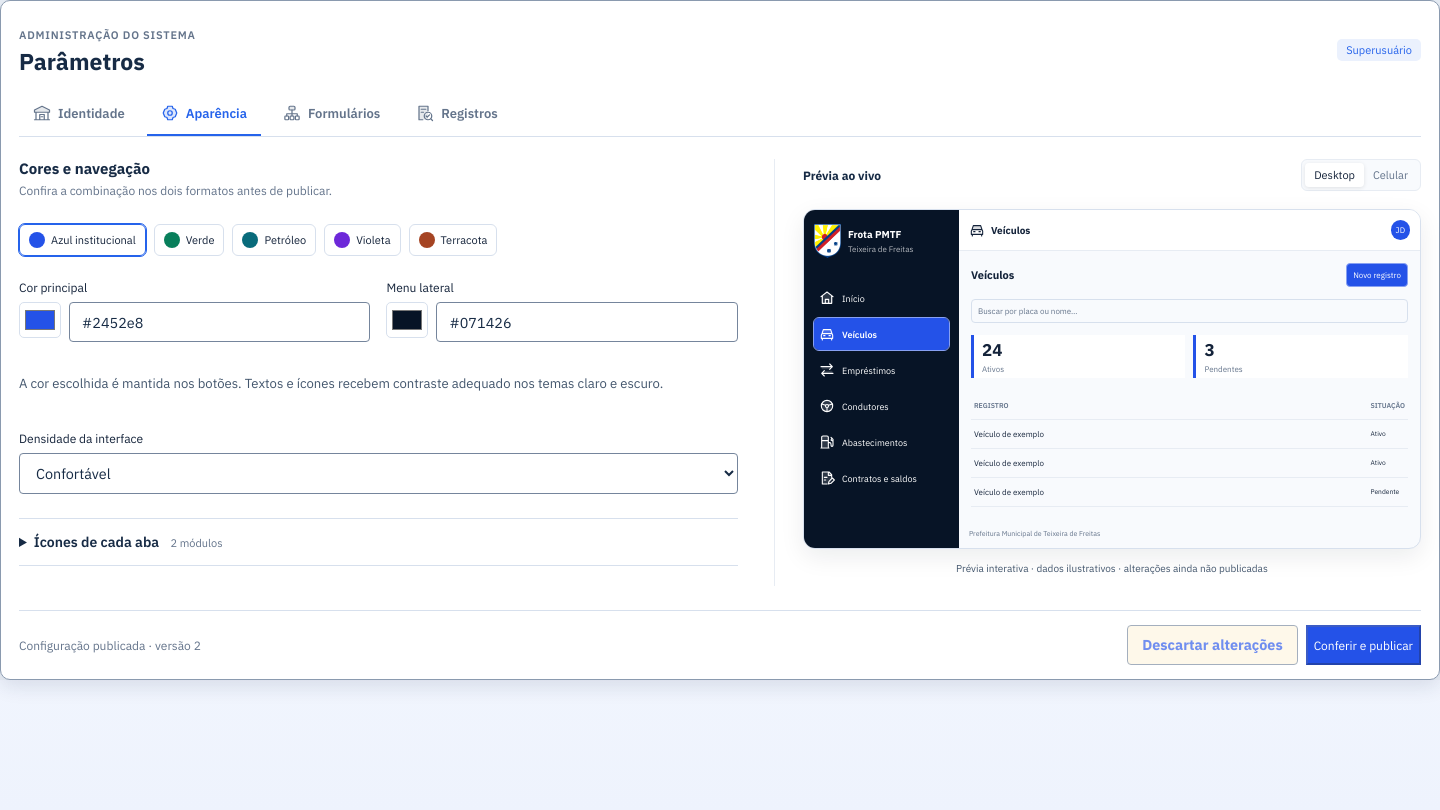
Test case: permite abrir a personalização de ícones e conferir os nomes da troca
The width and height of the screenshot is (1440, 810).
Click the heading "Ícones de cada aba 2 módulos".
click(128, 542)  # box [34, 533, 222, 551]
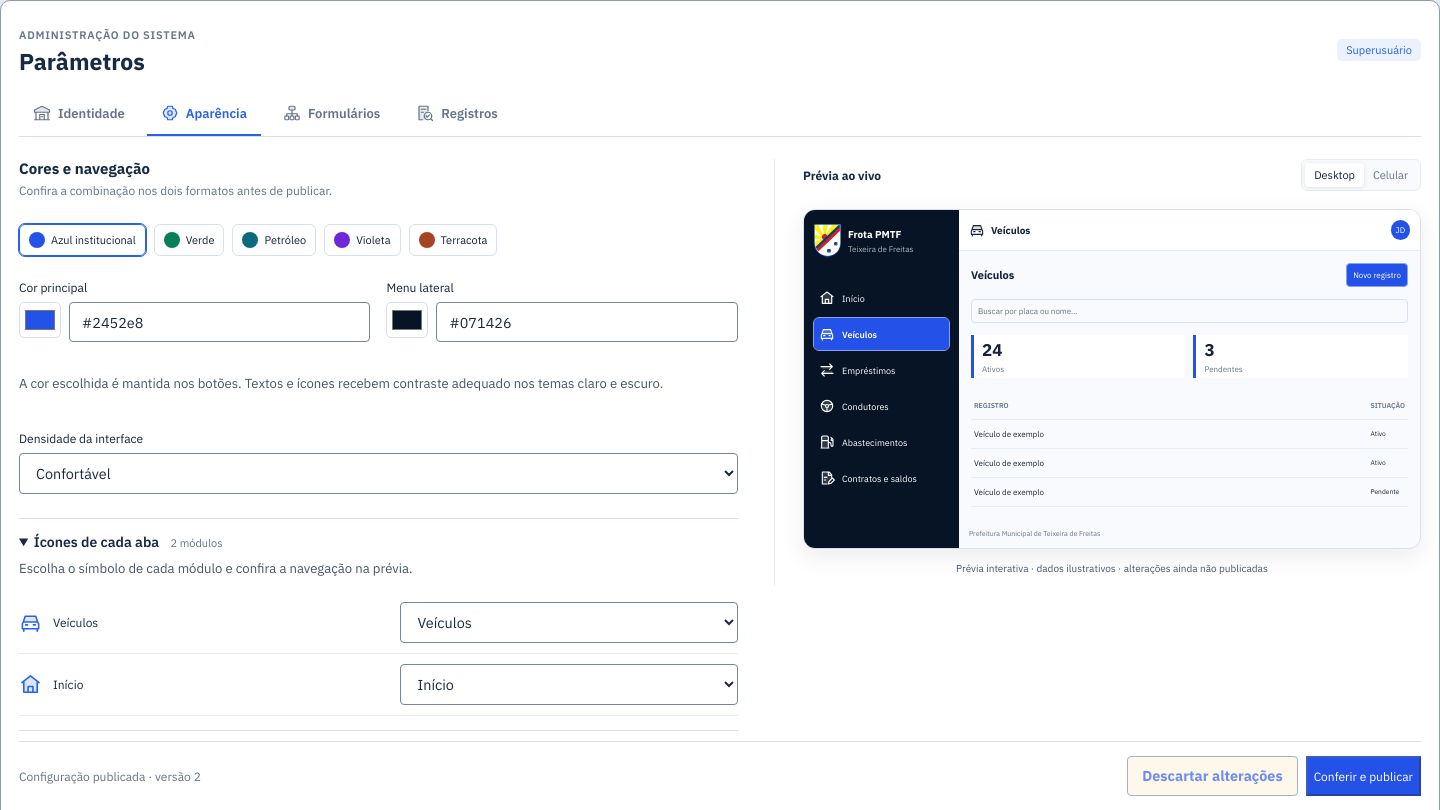
Select "Início" in the dropdown named "Ícone de Veículos" at (569, 622), box [400, 602, 738, 643]
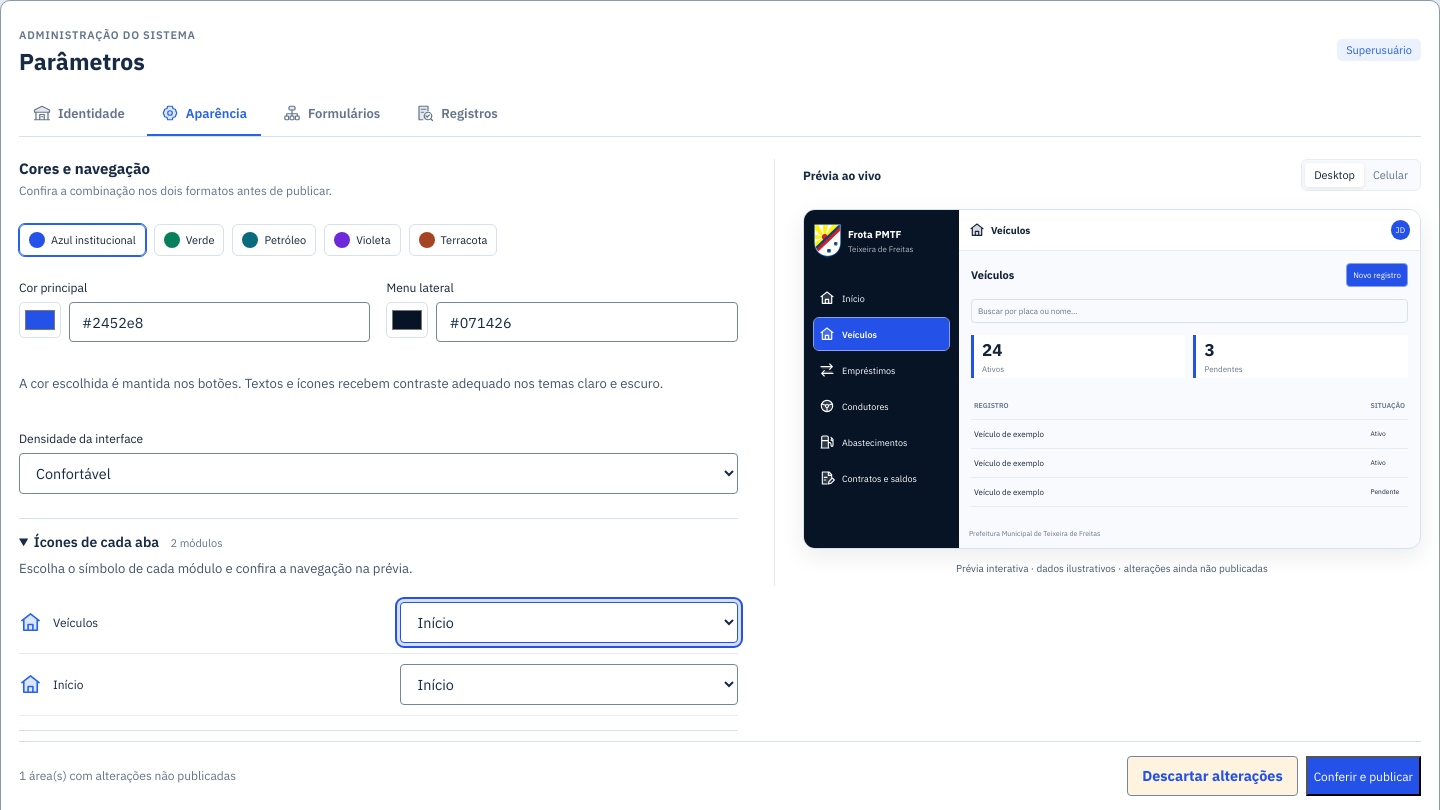
Click the button "Conferir e publicar".
click(1363, 776)  # box [1306, 756, 1421, 796]
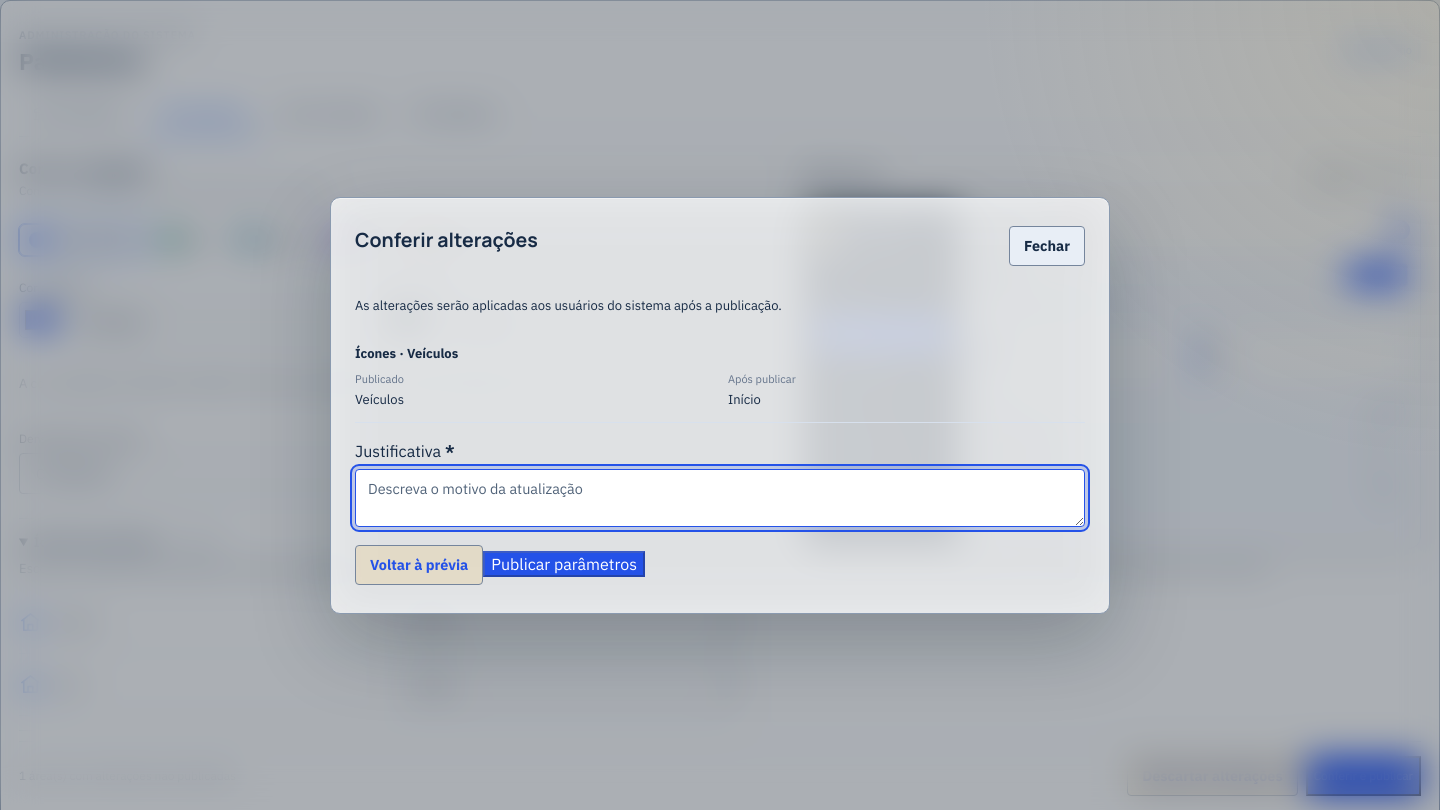
Expected: the element named "Alterações antes e depois" shows "Ícones · Veículos", [355, 344, 458, 362]
